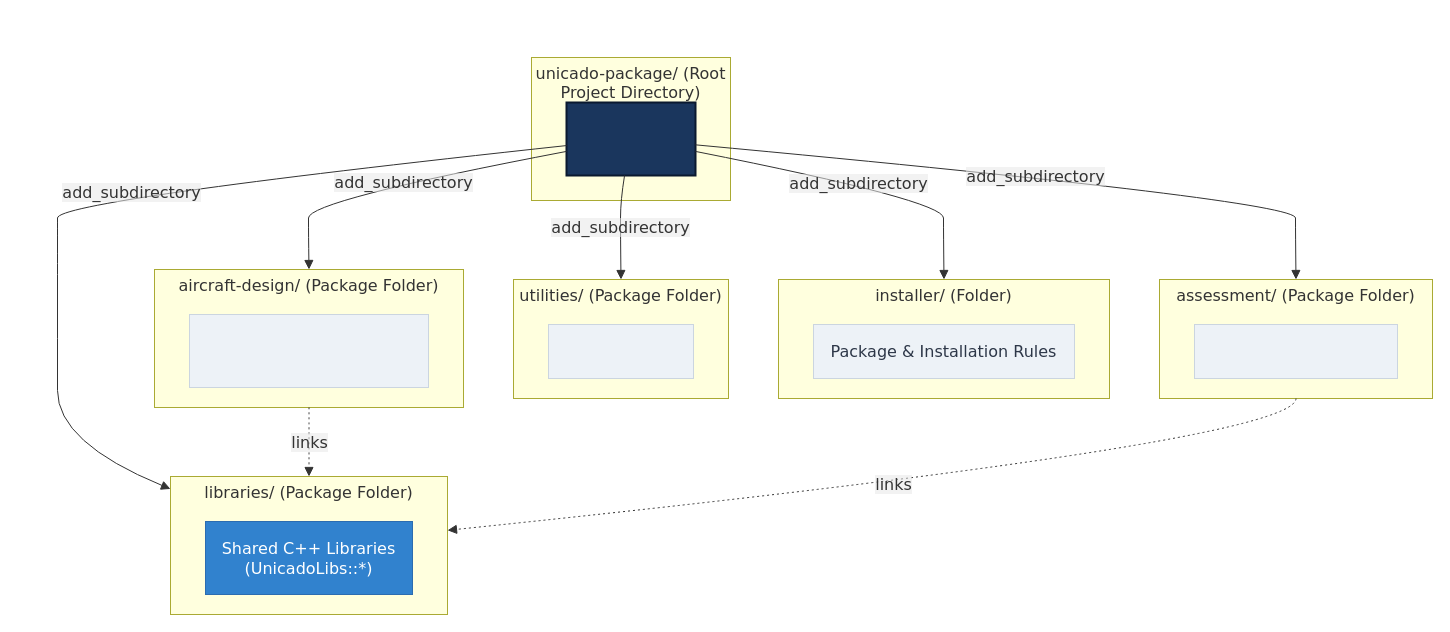
The diagram is 1450 pixels wide and 632 high, and some of its shapes have lost their labels. The centre of each missing label's shape, as x and y in pixels:
"Assessment Modules" belongs at pixel 1296 351.
"Design Modules (e.g., propulsion_design)" belongs at pixel 308 351.
"Utility Tools" belongs at pixel 621 351.
"«Project» UNICADO" belongs at pixel 630 138.
